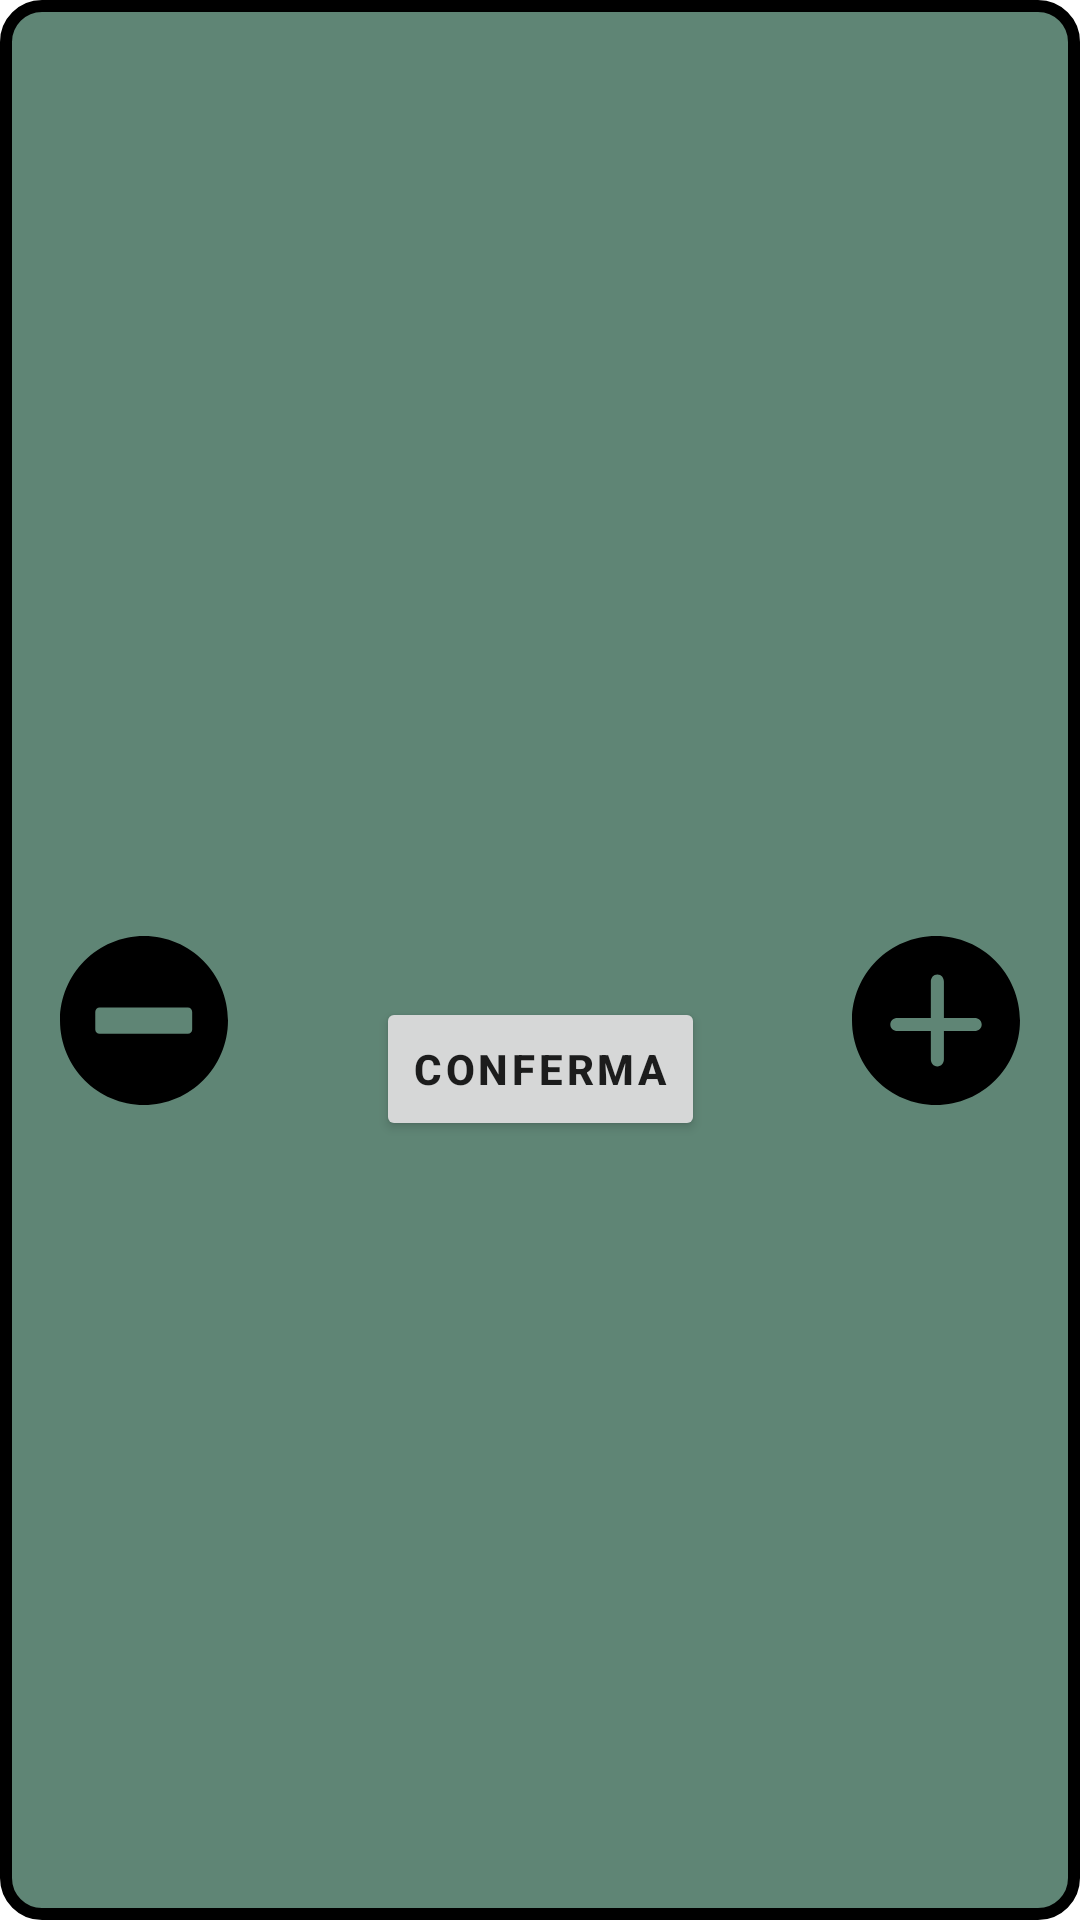

Named icons in this screenshot (1080×1920) and their bounding boxes, box(x1, y1, x2, y2):
minus sign: box(60, 936, 228, 1105)
plus sign: box(852, 936, 1020, 1105)
